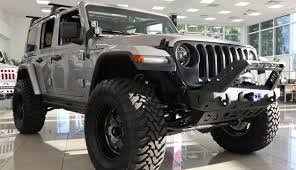mobil: (8, 6, 286, 164)
